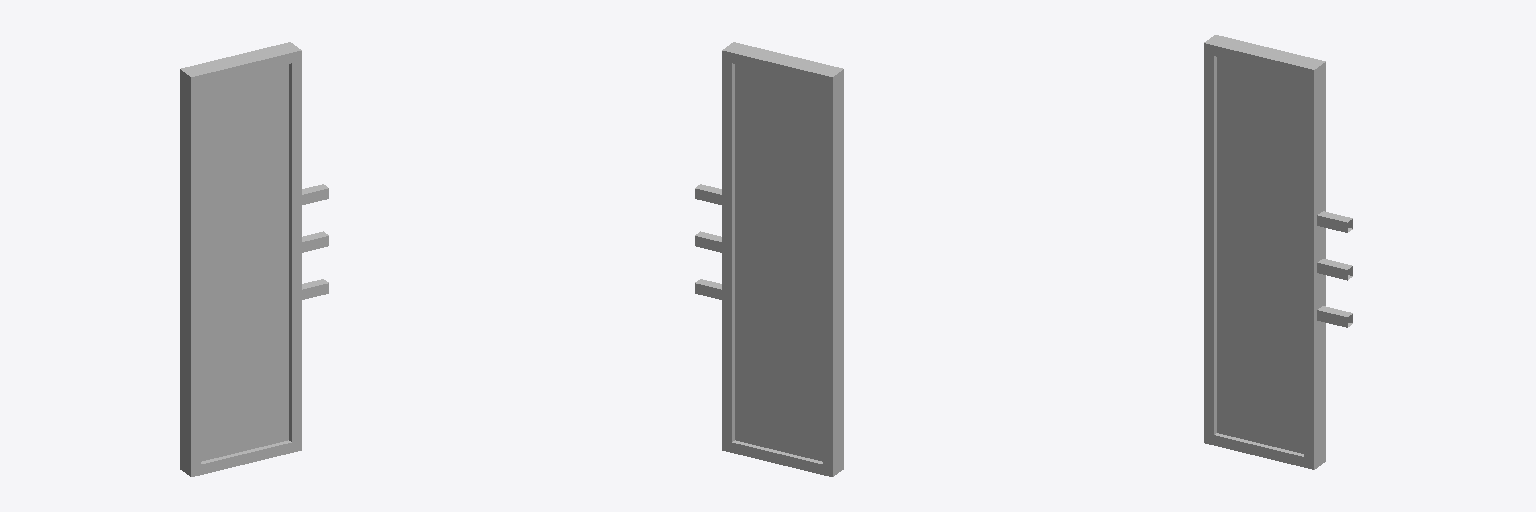
3 views of the same model, side by side, from view 1: azimuth 30°, elevation 25°; view 2: azimuth 150°, elevation 25°; view 3: azimuth 330°, elevation 25° (orthographic).
Parts seen in each view (by area): view 1: objRegroup01; view 2: objRegroup01; view 3: objRegroup01.
Boxes of the visible parts, box(x1,y1,x2,y2) form: objRegroup01: box(180, 42, 328, 476); objRegroup01: box(695, 42, 843, 476); objRegroup01: box(1204, 35, 1352, 469).
Bounding box in the file's own units: 7 × 19 × 1.